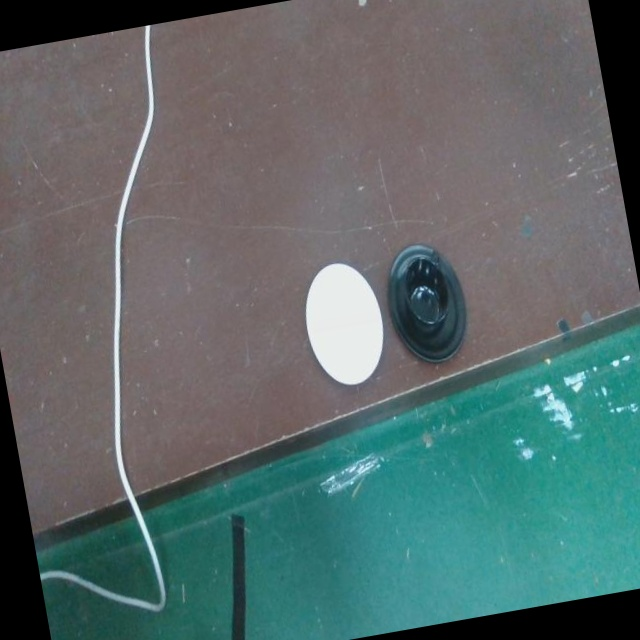black: (386, 238, 468, 370)
white: (305, 259, 385, 390)
